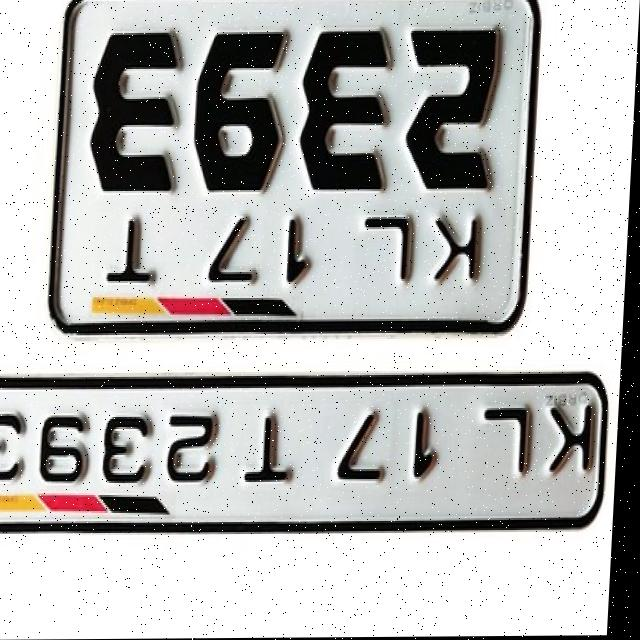plate: (44, 0, 548, 348), (0, 370, 620, 542)
